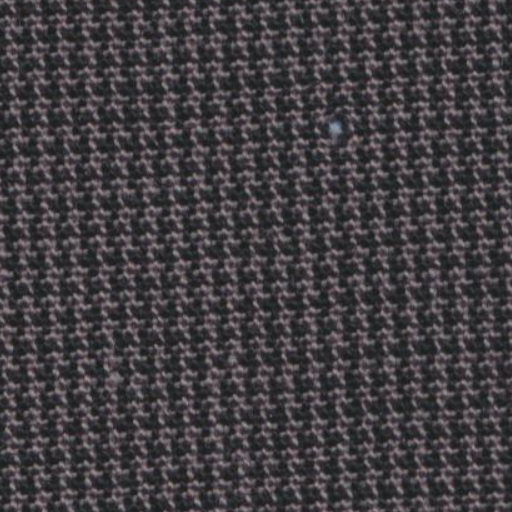PoDong: (301, 88, 369, 153)
